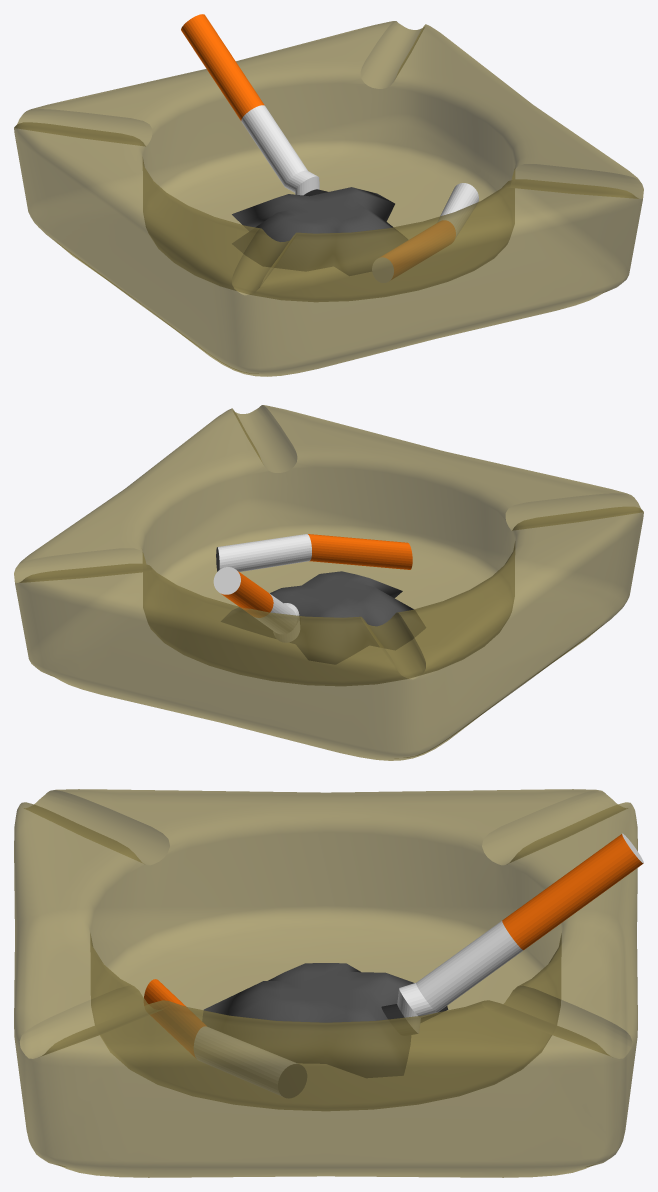
The model's file is ashtray.glb.
The picture shows the model from 3 angles, top to bottom: view 1: azimuth 30°, elevation 25°; view 2: azimuth 150°, elevation 25°; view 3: azimuth 270°, elevation 25°; orthographic projection. The views are drawn at different scales.
Visible parts, largest first — view 1: ashtray, ashtray.001, Cylinder, Cylinder.001; view 2: ashtray, ashtray.001, Cylinder.001, Cylinder; view 3: ashtray, ashtray.001, Cylinder, Cylinder.001.
Part boxes in pixels (x1,y1,x2,y2): ashtray: (14,21,643,376); ashtray.001: (232,187,407,275); Cylinder: (181,14,327,196); Cylinder.001: (372,183,478,282); ashtray: (14,405,643,760); ashtray.001: (221,571,425,664); Cylinder.001: (216,534,412,571); Cylinder: (213,567,300,642); ashtray: (14,789,637,1177); ashtray.001: (202,963,448,1077); Cylinder: (381,833,643,1035); Cylinder.001: (144,979,306,1097).
Size of the model in its own units: 1.69 by 0.6398 by 1.71.
